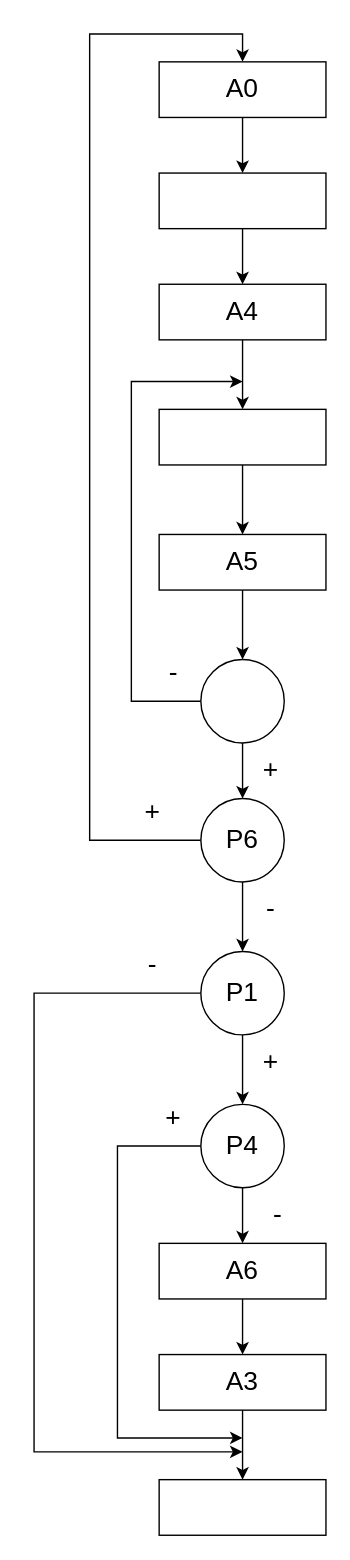
The diagram is 350 pixels wide and 1560 high, and some of its shapes have lost their labels. The box of each missing label's shape, as (x1, y1, x2, y2) in pixels:
A1: (158, 172, 326, 229)
A2: (158, 408, 326, 465)
Ak: (158, 1478, 326, 1535)
P5: (199, 658, 284, 743)
